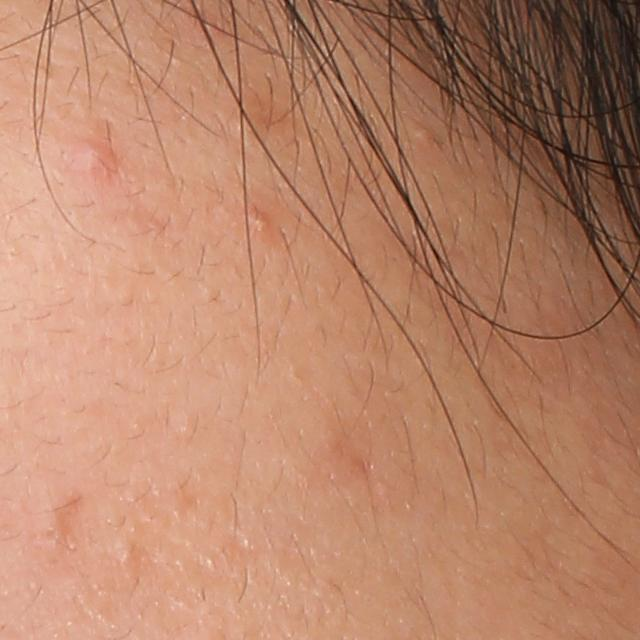comedo: (108, 536, 146, 573), (414, 125, 436, 147)
papule: (62, 138, 115, 178), (238, 207, 276, 242)
